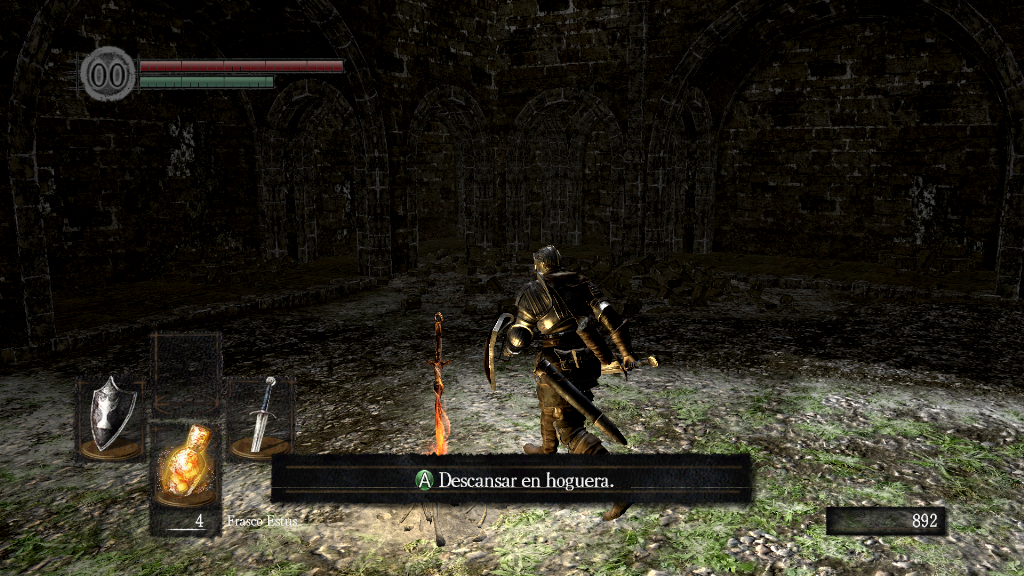bonfire: (368, 308, 480, 528)
dialogBox: (270, 455, 754, 506)
health: (138, 58, 343, 71)
humanity: (80, 45, 136, 102)
player: (482, 245, 664, 518)
souls: (825, 506, 945, 536)
stamina: (138, 74, 274, 88)
